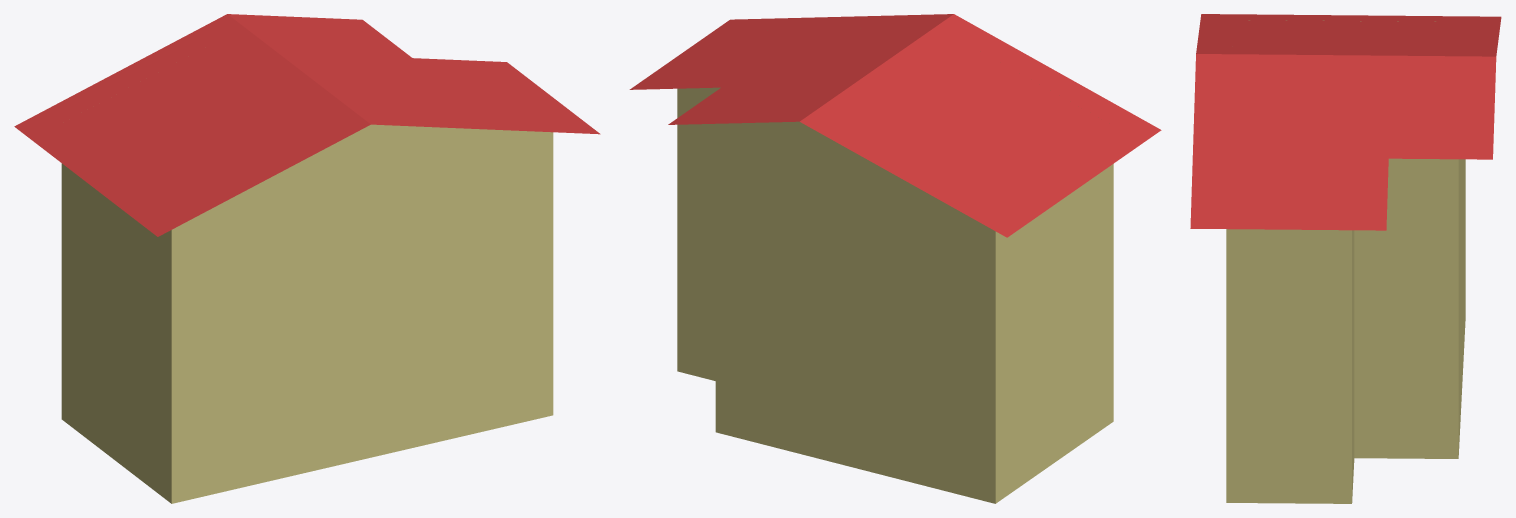
The picture shows the model from 3 angles, left to right: view 1: azimuth 30°, elevation 25°; view 2: azimuth 150°, elevation 25°; view 3: azimuth 270°, elevation 25°; orthographic projection.
Visible parts, largest first — view 1: group_5, group_3, group_4; view 2: group_5, group_3, group_4; view 3: group_5, group_3, group_4.
Part boxes in pixels (x1,y1,x2,y2): group_5: [61, 124, 553, 503]; group_3: [62, 14, 552, 207]; group_4: [14, 14, 600, 236]; group_5: [677, 87, 1113, 503]; group_3: [630, 14, 1113, 208]; group_4: [631, 14, 1161, 237]; group_5: [1226, 20, 1465, 503]; group_3: [1190, 20, 1496, 230]; group_4: [1190, 14, 1501, 230].
Size of the model in its own units: 10.94 by 6.64 by 8.29.
